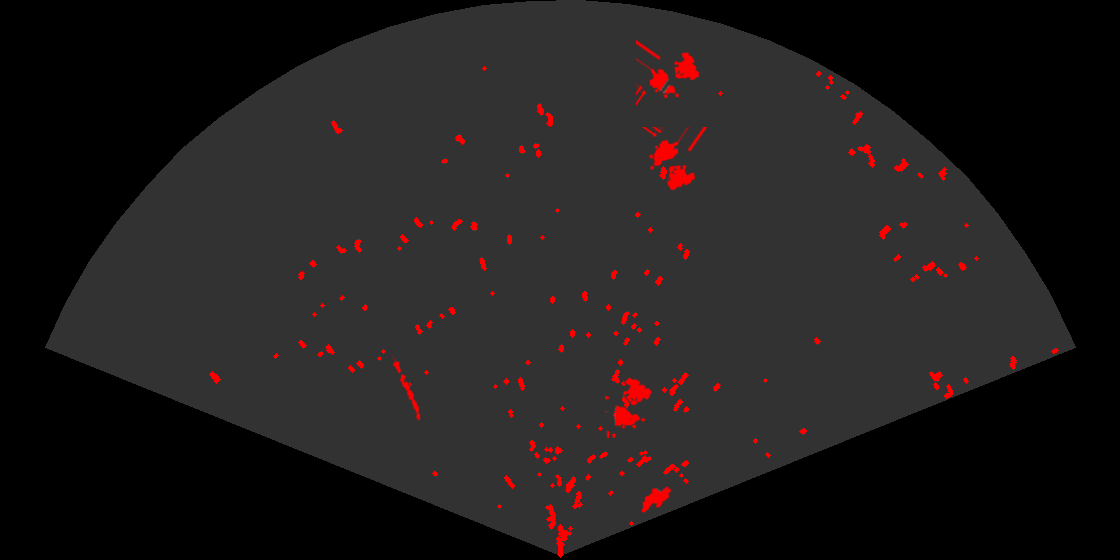AUV: (640, 485, 673, 514)
cage: (636, 38, 701, 108), (640, 127, 709, 192), (605, 376, 653, 438)
chain: (389, 355, 422, 423)
